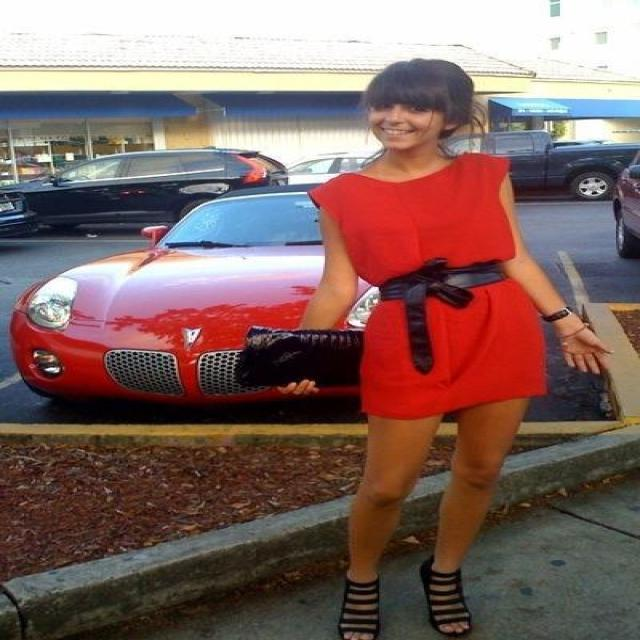bag: (234, 324, 363, 387)
dress: (288, 153, 555, 419)
shoe: (341, 563, 485, 639)
